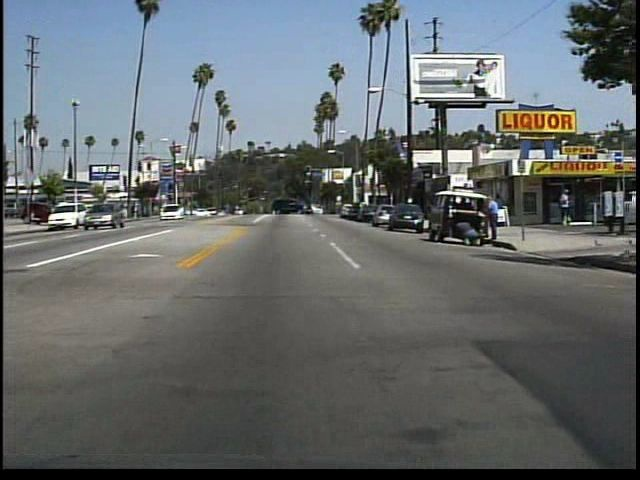person: (484, 191, 504, 242), (455, 218, 480, 248), (558, 186, 575, 229)
